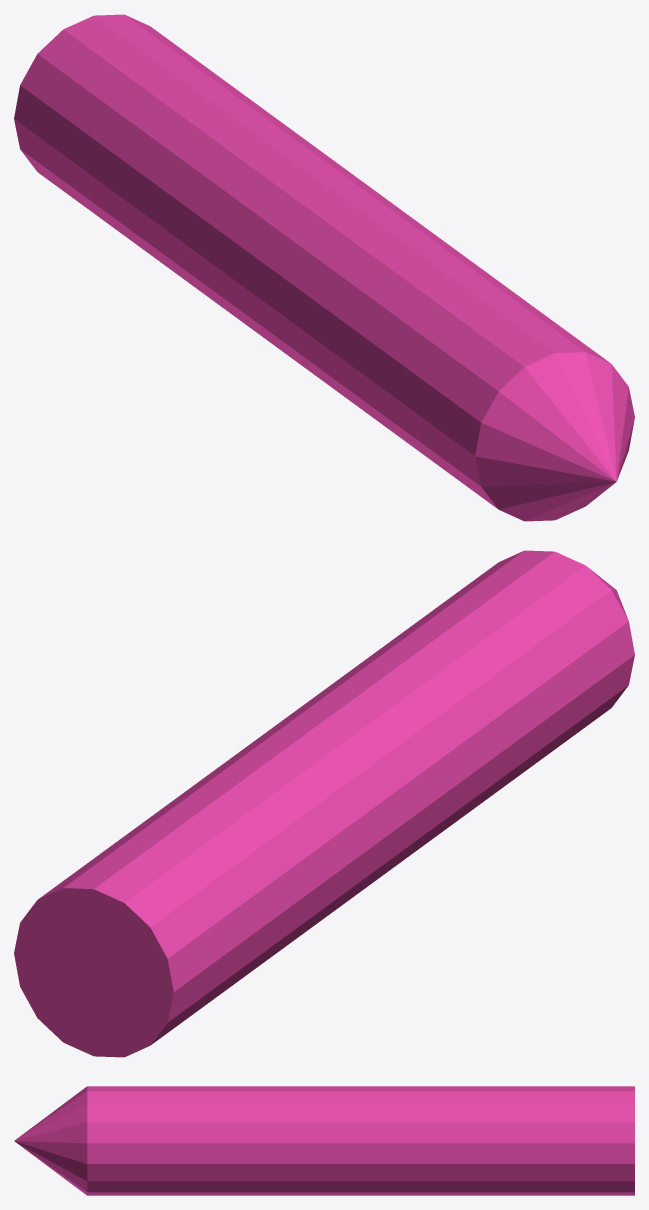
The model's file is RaserBullet.gltf.
3 views of the same model, one above another, from view 1: azimuth 30°, elevation 25°; view 2: azimuth 150°, elevation 25°; view 3: azimuth 270°, elevation 25° (orthographic). The views are drawn at different scales.
Parts seen in each view (by area): view 1: 円柱; view 2: 円柱; view 3: 円柱.
Part boxes in pixels (x1=…): 円柱: x1=14, y1=14, x2=634, y2=521; 円柱: x1=14, y1=550, x2=634, y2=1057; 円柱: x1=14, y1=1086, x2=634, y2=1195.
Bounding box in the file's own units: 6 × 6 × 34.01.
